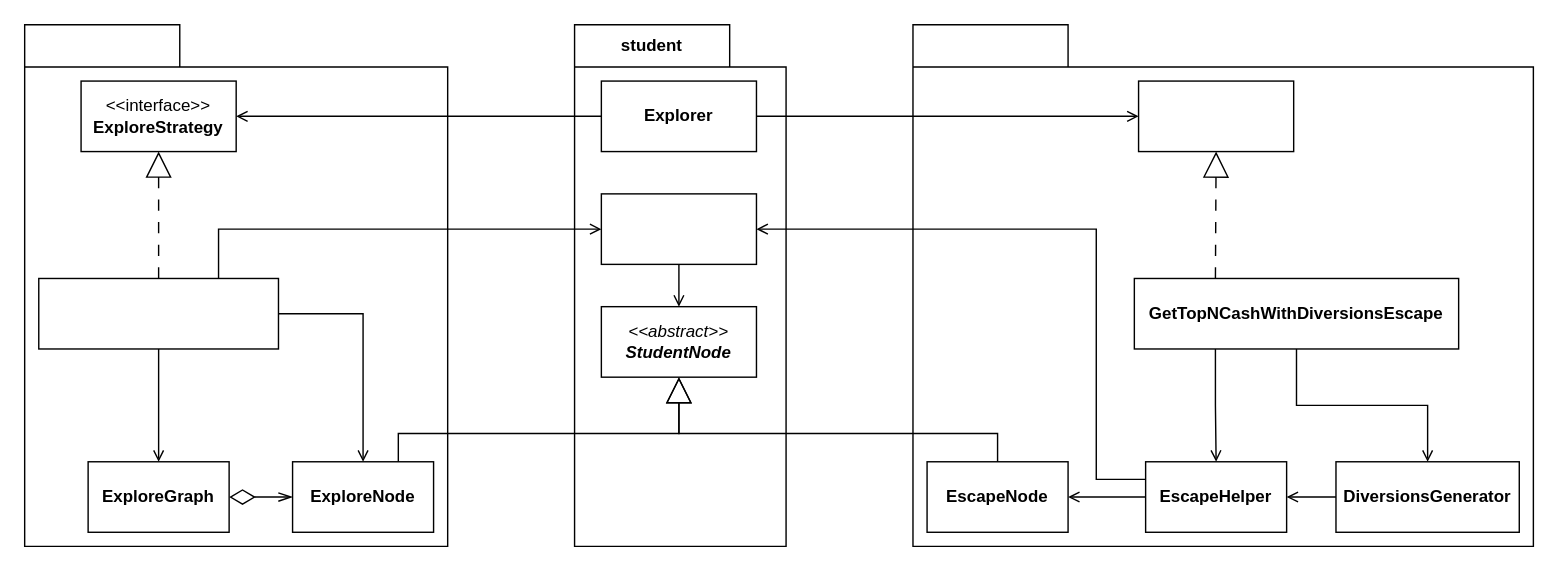
This 1558x571 diagram has some shape labels left out. Here are the shapes that lost their labels. From the top down, the box of each, then its label:
(1137, 80, 1294, 152): <<interface>> EscapeStrategy
(600, 192, 756, 264): PathFinder
(23, 23, 448, 546): student.explore
(912, 23, 1533, 546): student.escape
(37, 277, 278, 349): BasicFindBestNodeExplore
